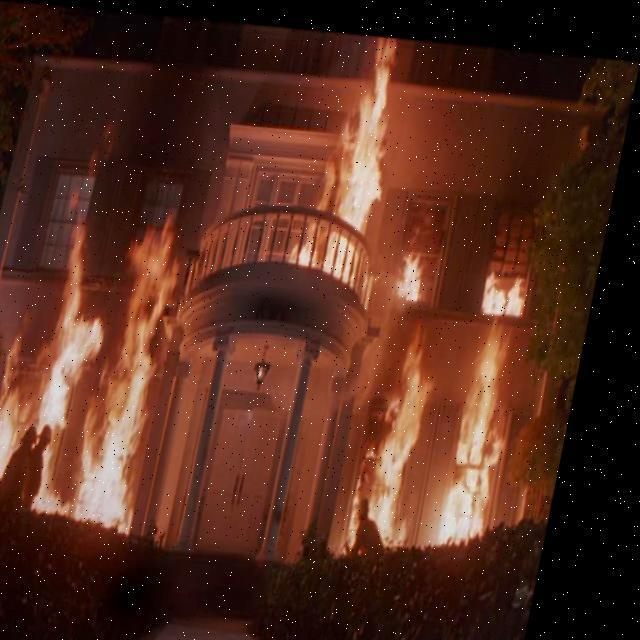Fire: (0, 176, 204, 520), (348, 306, 461, 574), (312, 28, 413, 300), (451, 266, 539, 562)
